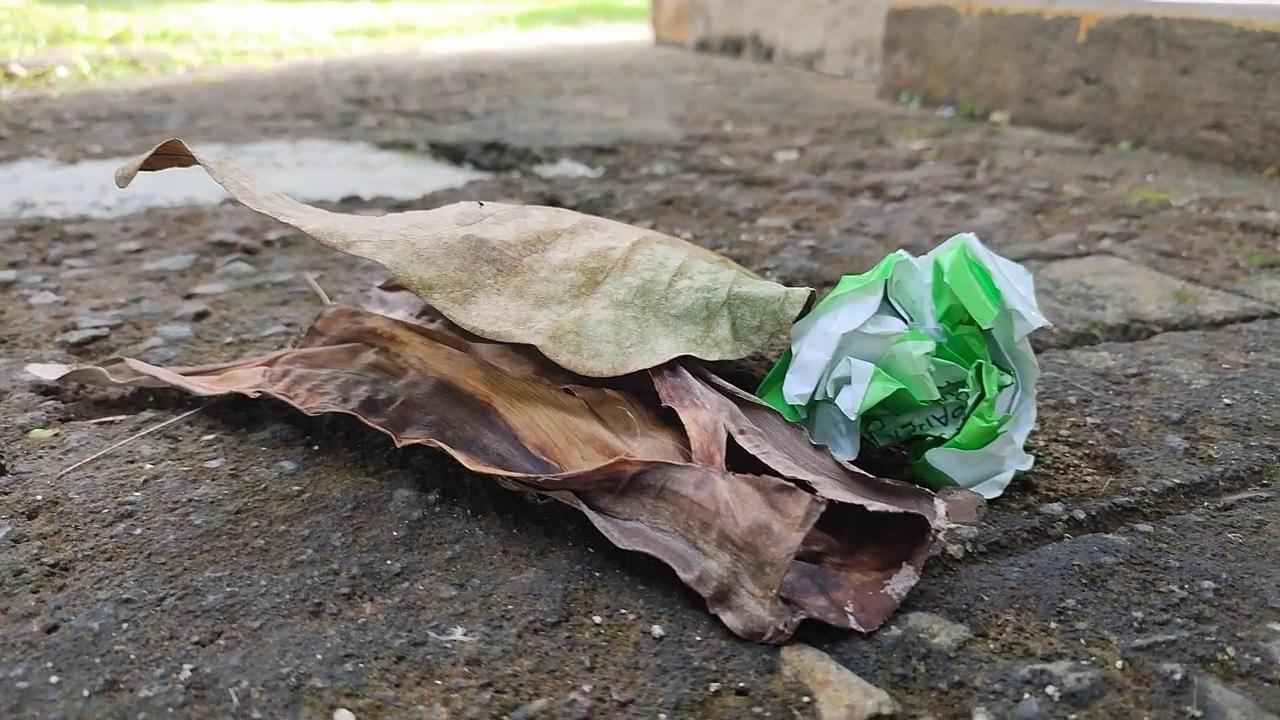Paper: (751, 201, 1064, 521)
